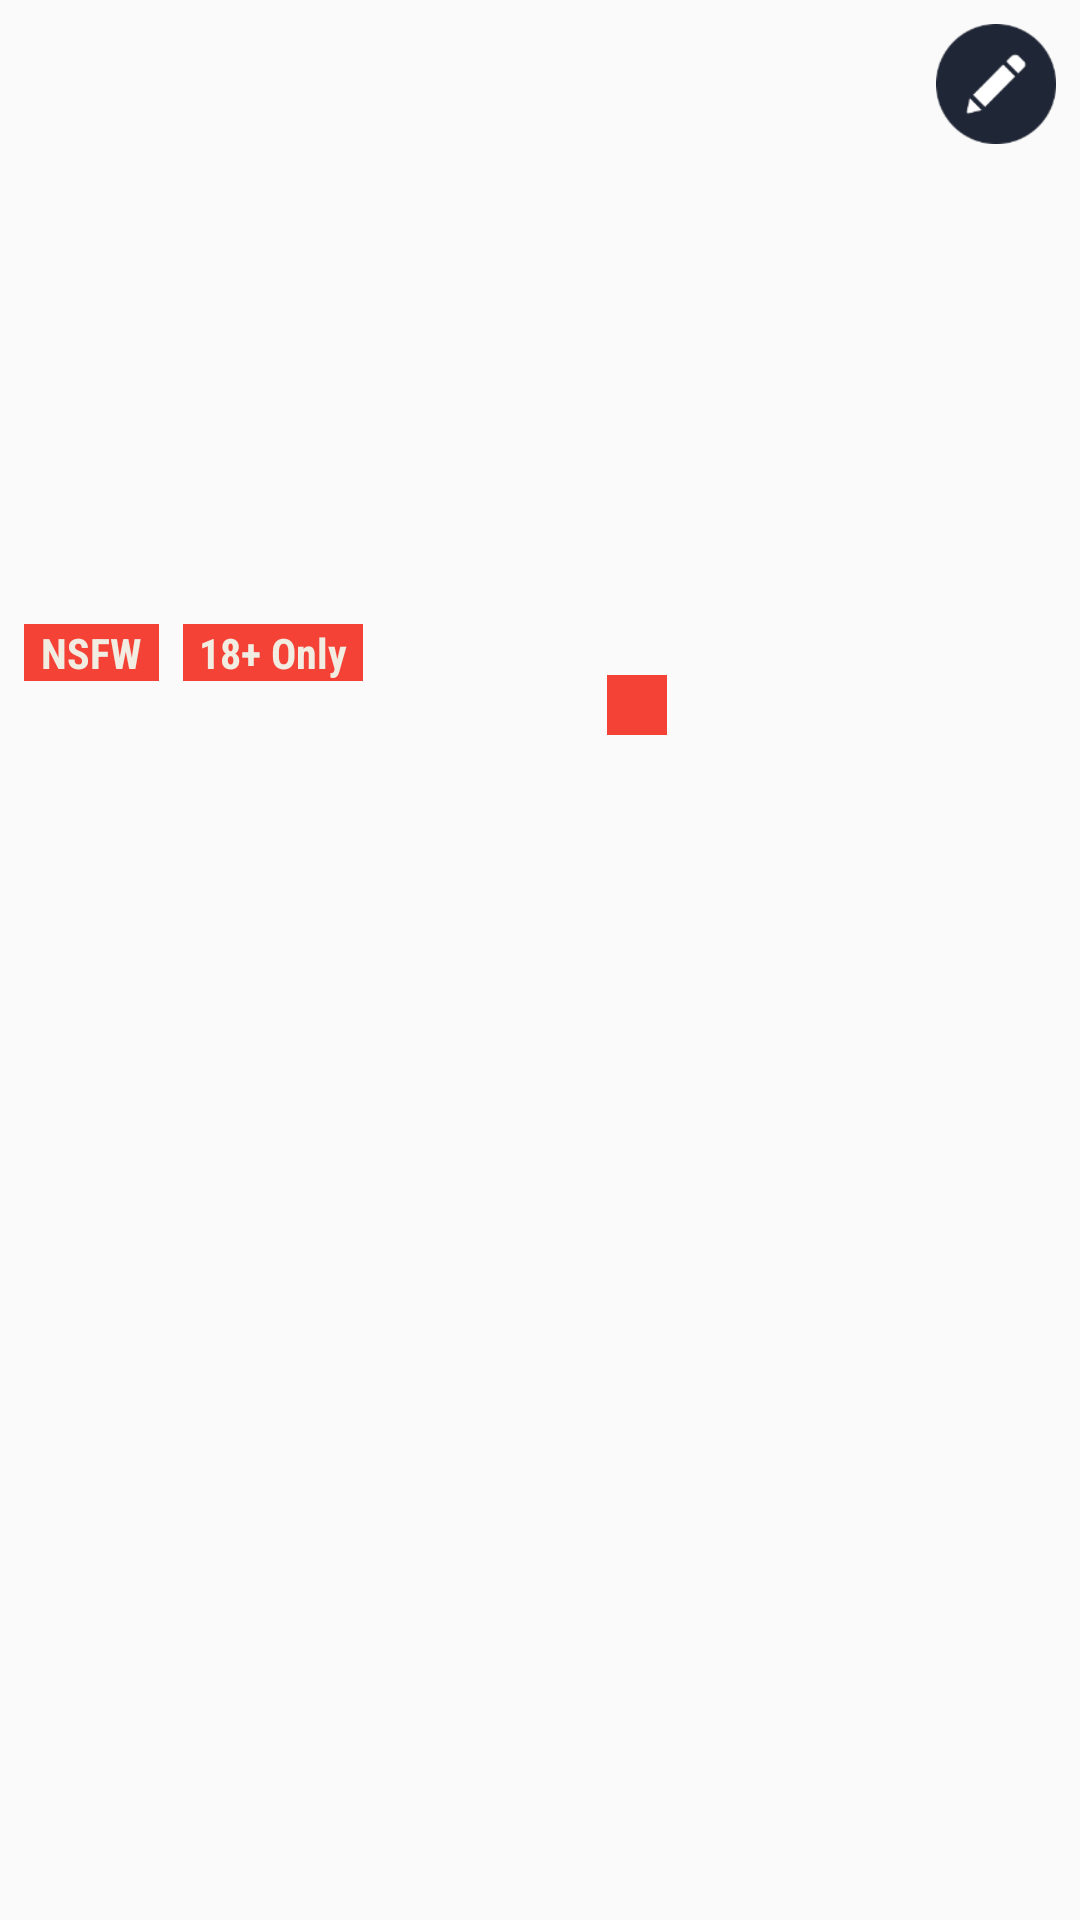

Named icons in this screenshot (1080px×1920px) and their centers, point (x, y):
edit: point (996, 84)
